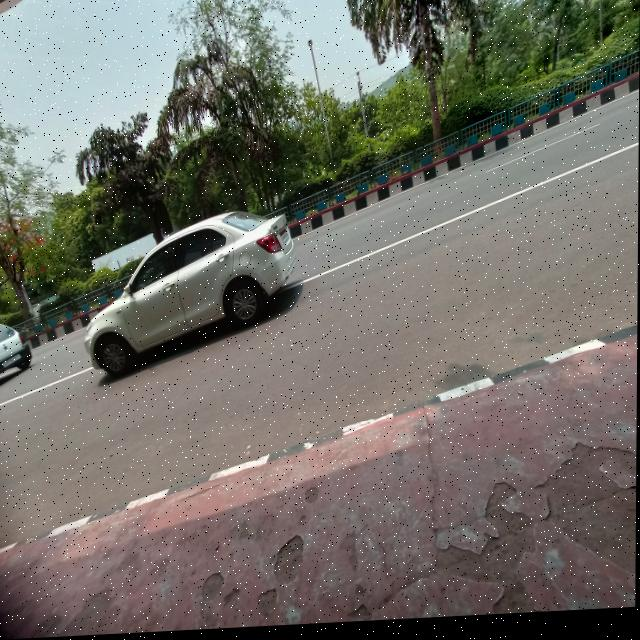car: (80, 212, 293, 377)
